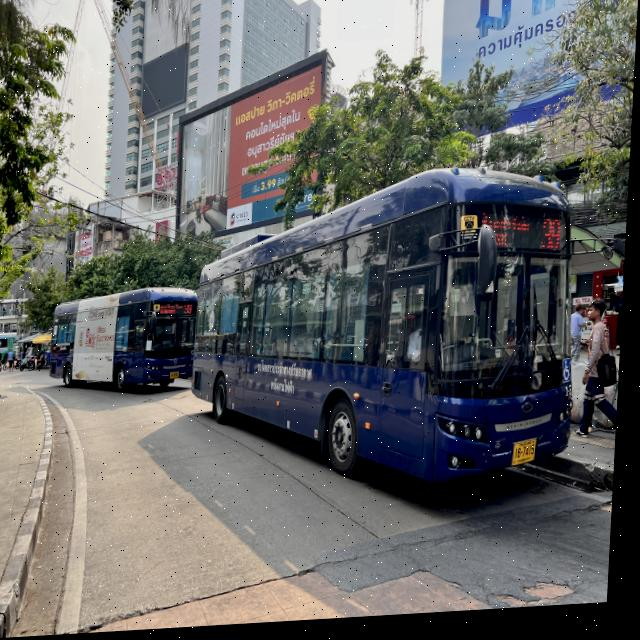Bus-Line-Number: (543, 220, 568, 261), (187, 306, 197, 317)
Destination-Sign-Normal: (481, 215, 536, 257), (161, 305, 187, 318)
TSB-Bus: (188, 154, 593, 508), (49, 285, 207, 402)
